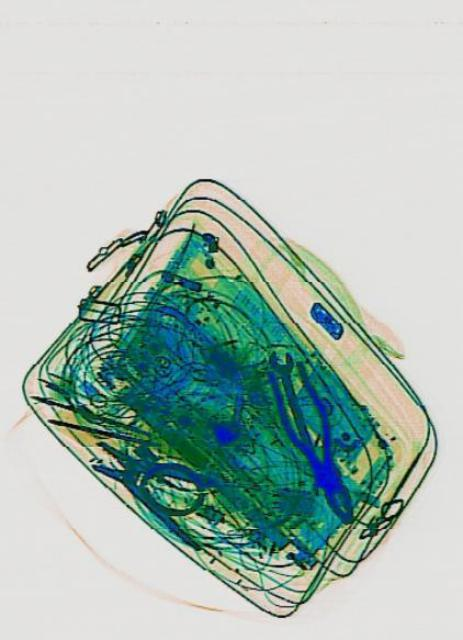Pliers: (78, 415, 226, 555), (260, 347, 367, 535)
Wrench: (267, 344, 332, 494)
